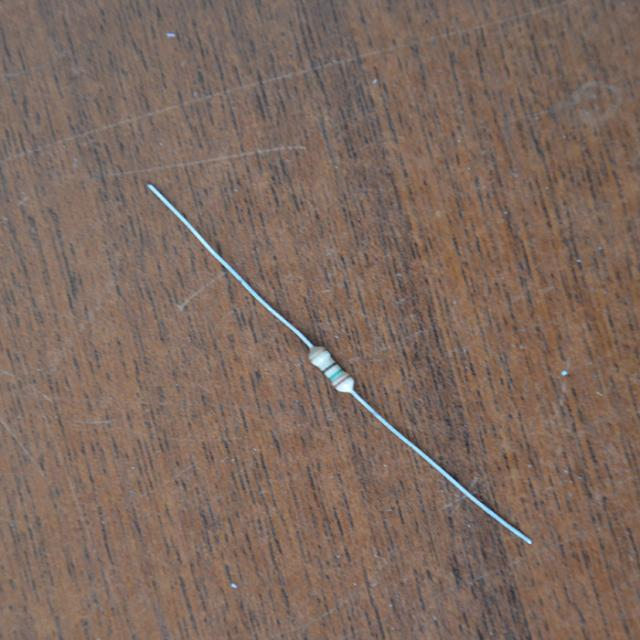black: (322, 360, 336, 373)
brown: (333, 373, 349, 388)
gold: (312, 347, 327, 362)
green: (329, 366, 342, 379)
resistor: (293, 337, 364, 403)
